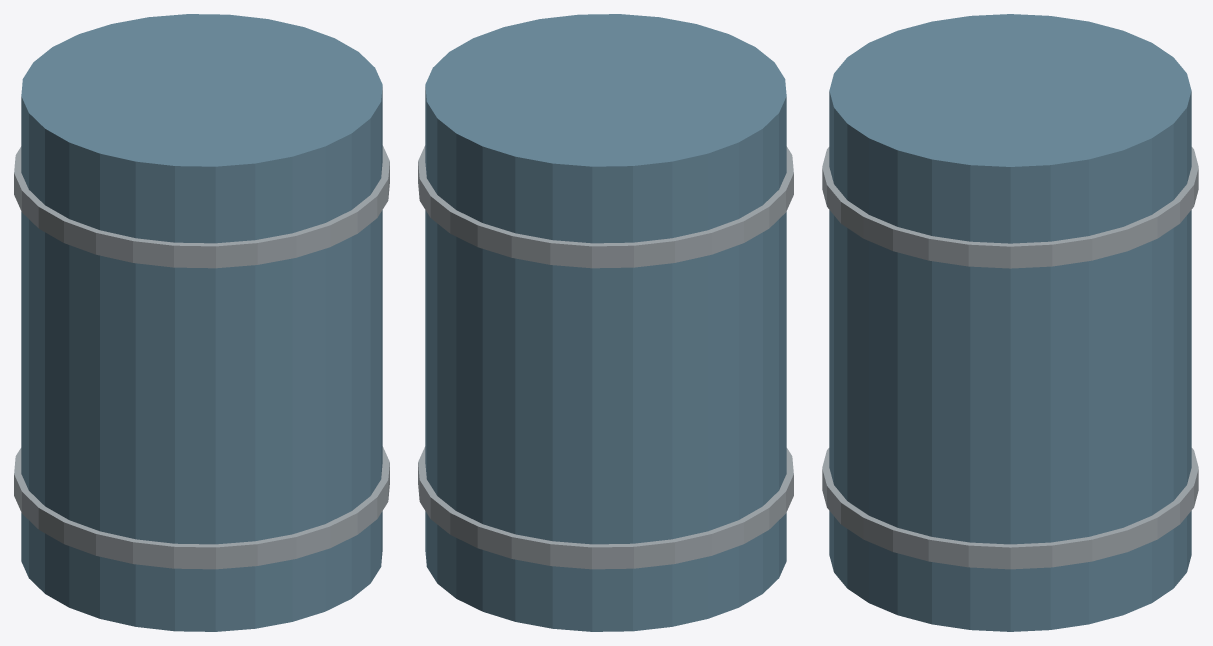
Rendered from long-haul-trucking-and-truck-stop-oil-drum-8095e0a9__14010.glb.
The picture shows the model from 3 angles, left to right: view 1: azimuth 30°, elevation 25°; view 2: azimuth 150°, elevation 25°; view 3: azimuth 270°, elevation 25°; orthographic projection.
Visible parts, largest first — view 1: oil-drum; view 2: oil-drum; view 3: oil-drum.
Part boxes in pixels (x1,y1,x2,y2): oil-drum: [14, 14, 389, 631]; oil-drum: [418, 14, 793, 631]; oil-drum: [822, 14, 1198, 631].
Bounding box in the file's own units: 0.624 × 0.85 × 0.624.
